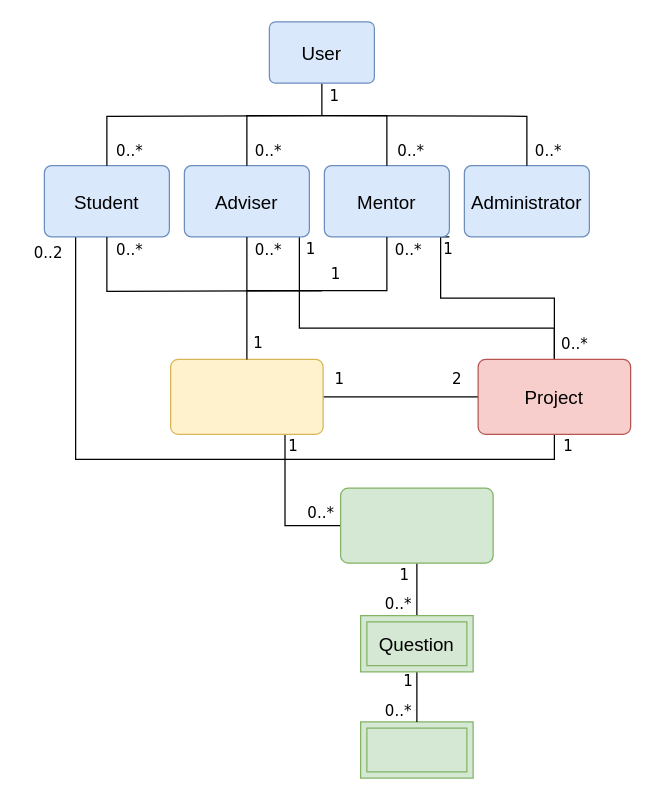
Some shapes in this 653 by 800 pixel diagram are drawn without their labels. Here are the shapes that lost their labels. From the top down, the box of each, then its label:
(169, 358, 323, 434): Cohort
(339, 487, 493, 563): Deadline
(359, 721, 473, 778): Option
